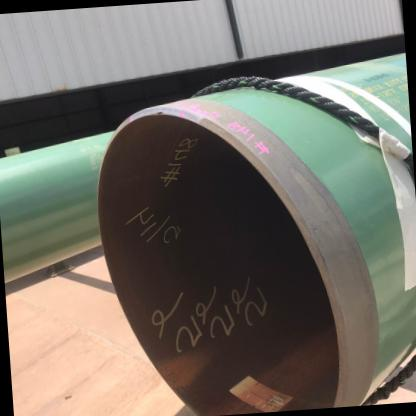Bevel: (144, 108, 170, 118)
